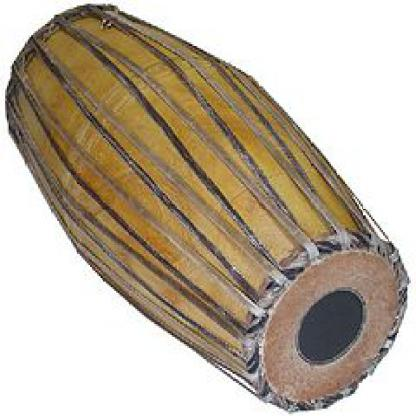Mridangam: (2, 1, 416, 414)
